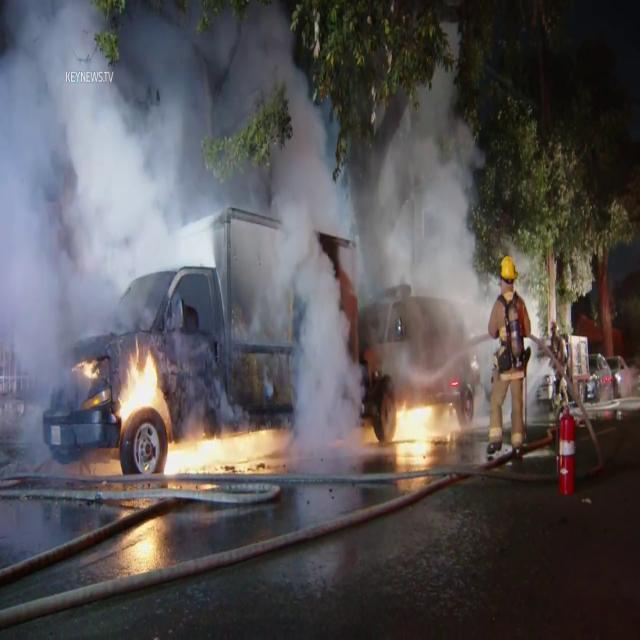Fire: (162, 420, 274, 476), (387, 387, 457, 463), (114, 344, 160, 428)
Smoke: (0, 1, 506, 391)
